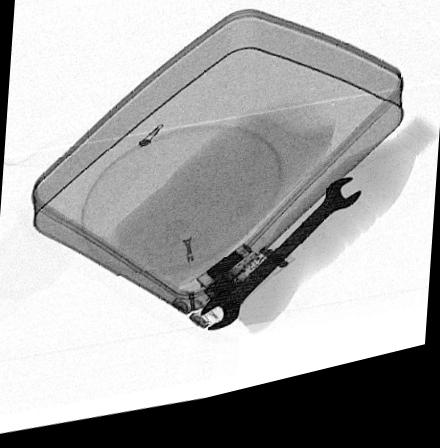Wrench: (195, 194, 365, 342)
